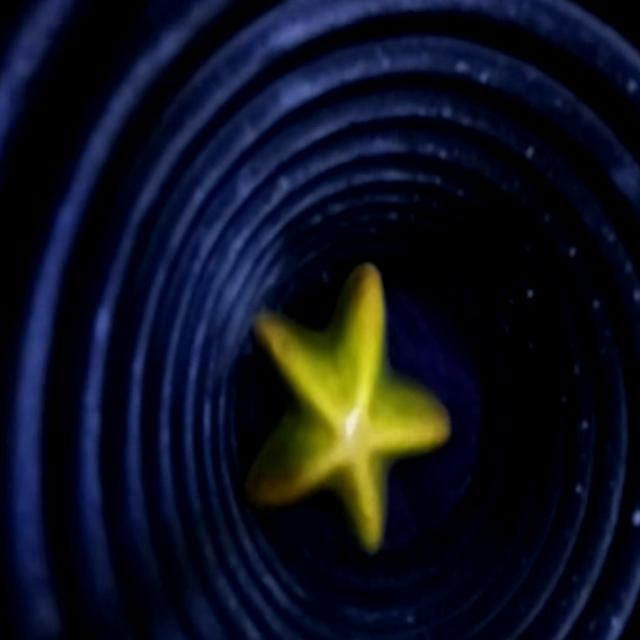obstacles: (246, 265, 448, 548)
